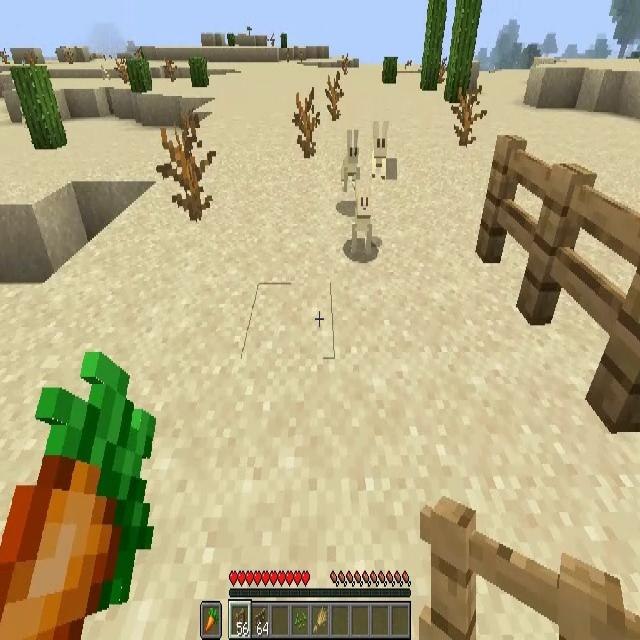rabbit: (314, 280, 338, 360), (351, 185, 375, 253), (340, 128, 364, 190), (370, 118, 390, 178)
